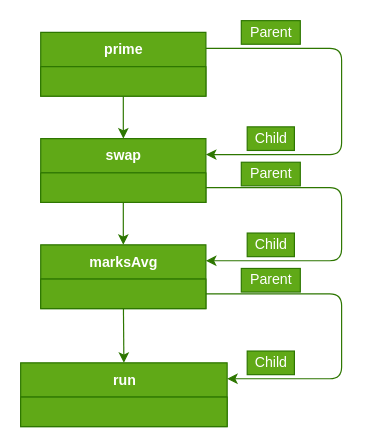
The diagram is 372 pixels wide and 447 high, and some of its shapes have lost their labels. The shapes that lost their labels are listed below. From the top down, each one's centre as x and y in pixels, then its label:
(123,80): Find Prime or Not
(123,187): Swap Two Numbers
(123,293): Find Average of Marks
(123,411): Run all the Inherited classes
